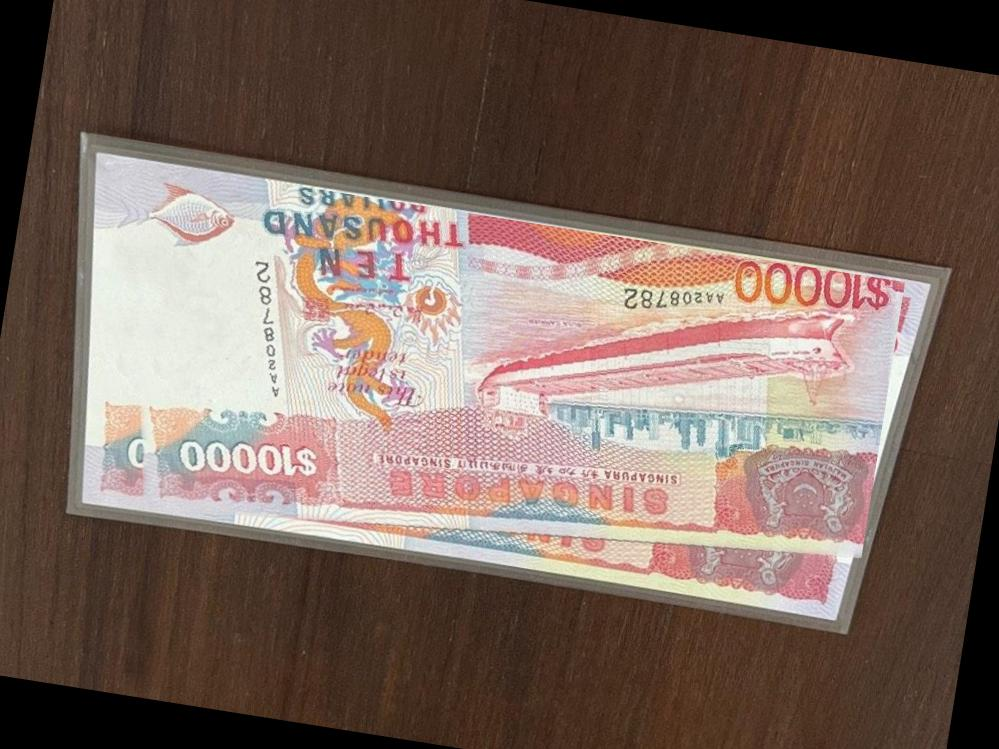10000SingaporeDollar: (81, 160, 905, 621)
